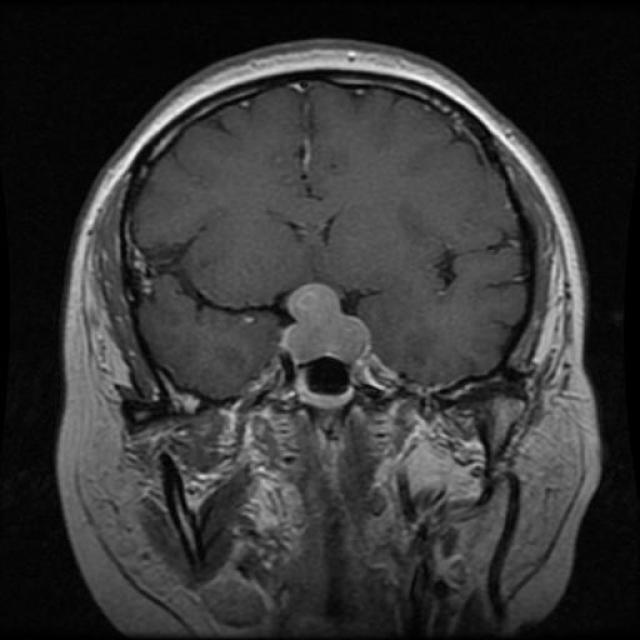pituitary: (276, 278, 390, 415)
